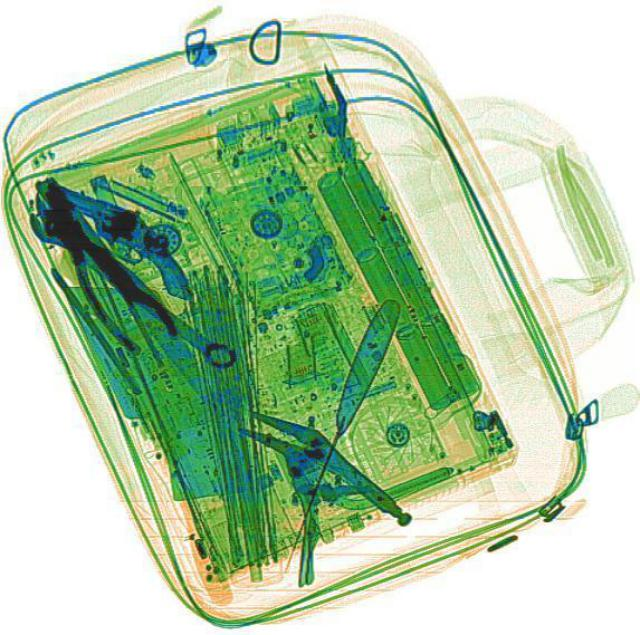Gun: (17, 178, 212, 300)
Knife: (26, 174, 238, 417), (271, 295, 401, 572)
Pliers: (19, 192, 187, 363)
Wrench: (20, 196, 242, 373)
